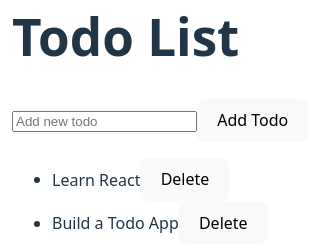
Test case: TodoList Component › deletes a todo
Click the button with test id "delete-todo-button" next to "Learn React".
click(185, 180)  # box [140,158,230,201]
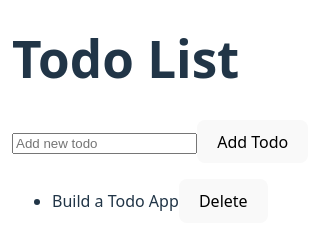
Expected: the text "Learn React" is gone
